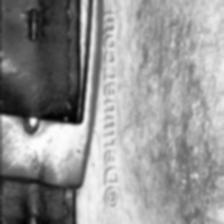Toxin: (136, 0, 224, 220)
